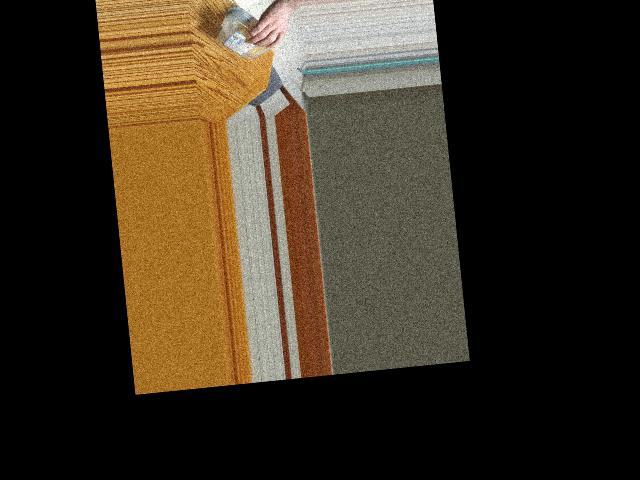cheese: (213, 4, 282, 62)
